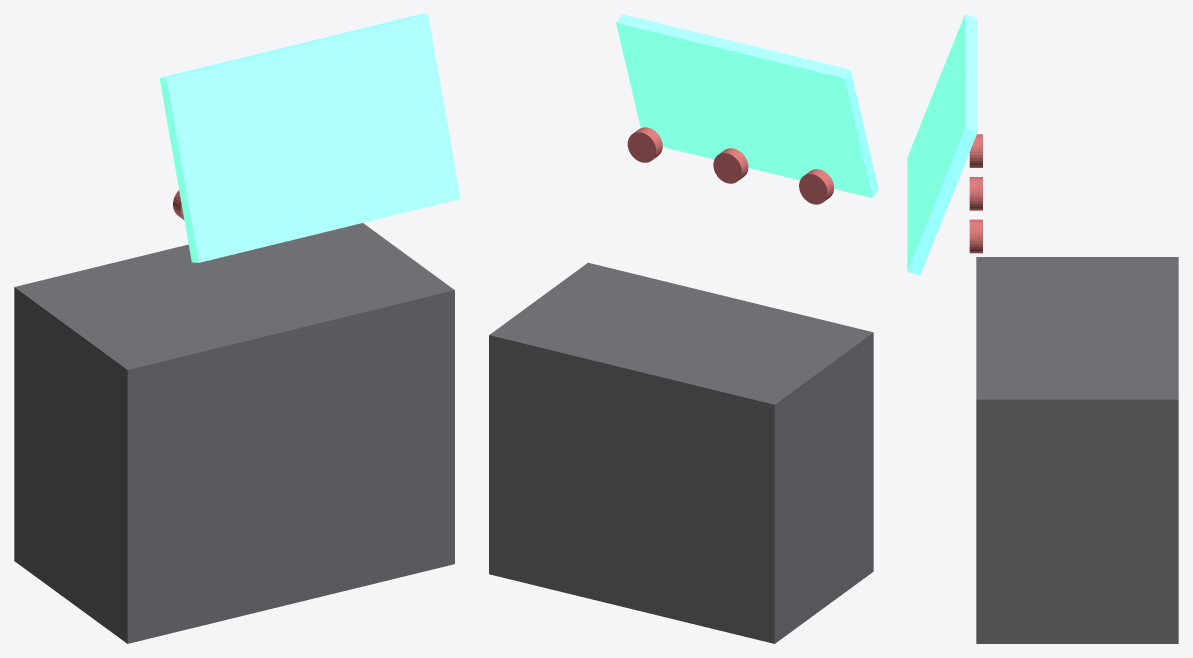
The model's file is console.glb.
The picture shows the model from 3 angles, left to right: view 1: azimuth 30°, elevation 25°; view 2: azimuth 150°, elevation 25°; view 3: azimuth 270°, elevation 25°; orthographic projection. The views are drawn at different scales.
Visible parts, largest first — view 1: Cube, Cube.001; view 2: Cube, Cube.001, Cylinder.001, Cylinder.002, Cylinder; view 3: Cube, Cube.001, Cylinder.002, Cylinder.001, Cylinder.
Boxes of the visible parts, <box> form: Cube: <box>14,223,454,643</box>; Cube.001: <box>159,14,460,262</box>; Cube: <box>489,262,873,643</box>; Cube.001: <box>616,14,878,197</box>; Cylinder.001: <box>713,148,748,183</box>; Cylinder.002: <box>627,127,662,162</box>; Cylinder: <box>799,169,833,204</box>; Cube: <box>976,257,1178,643</box>; Cube.001: <box>907,14,977,275</box>; Cylinder.002: <box>969,219,982,253</box>; Cylinder.001: <box>969,177,982,210</box>; Cylinder: <box>969,134,982,167</box>.
Size of the model in its own units: 0.5 by 0.8209 by 0.4021.
